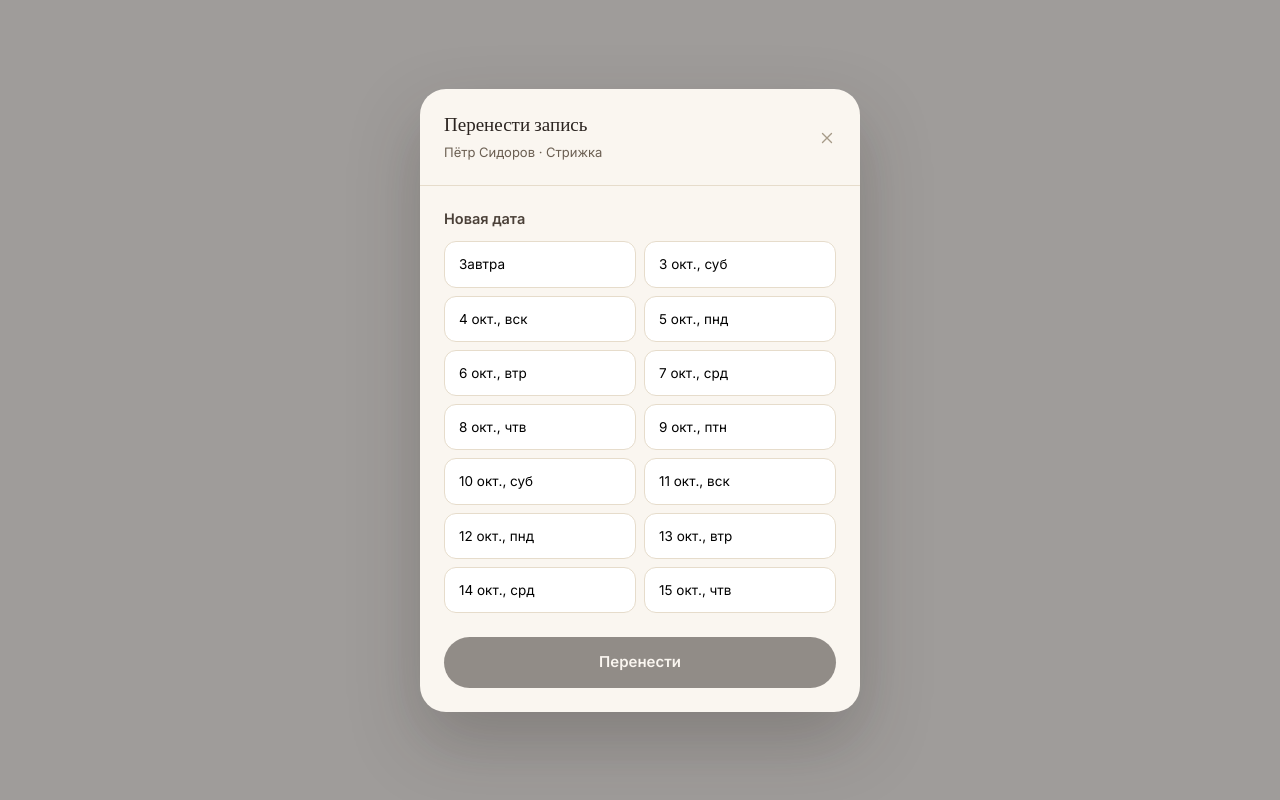
it: RescheduleModal — US-17-01 (ARCHITECTURE_CYCLE17.md §305.1): one boundary for days and slots › filters out a tomorrow slot inside a 24h window (minHours=24)
Click the button "Завтра": (540, 264) [444,241,636,288]
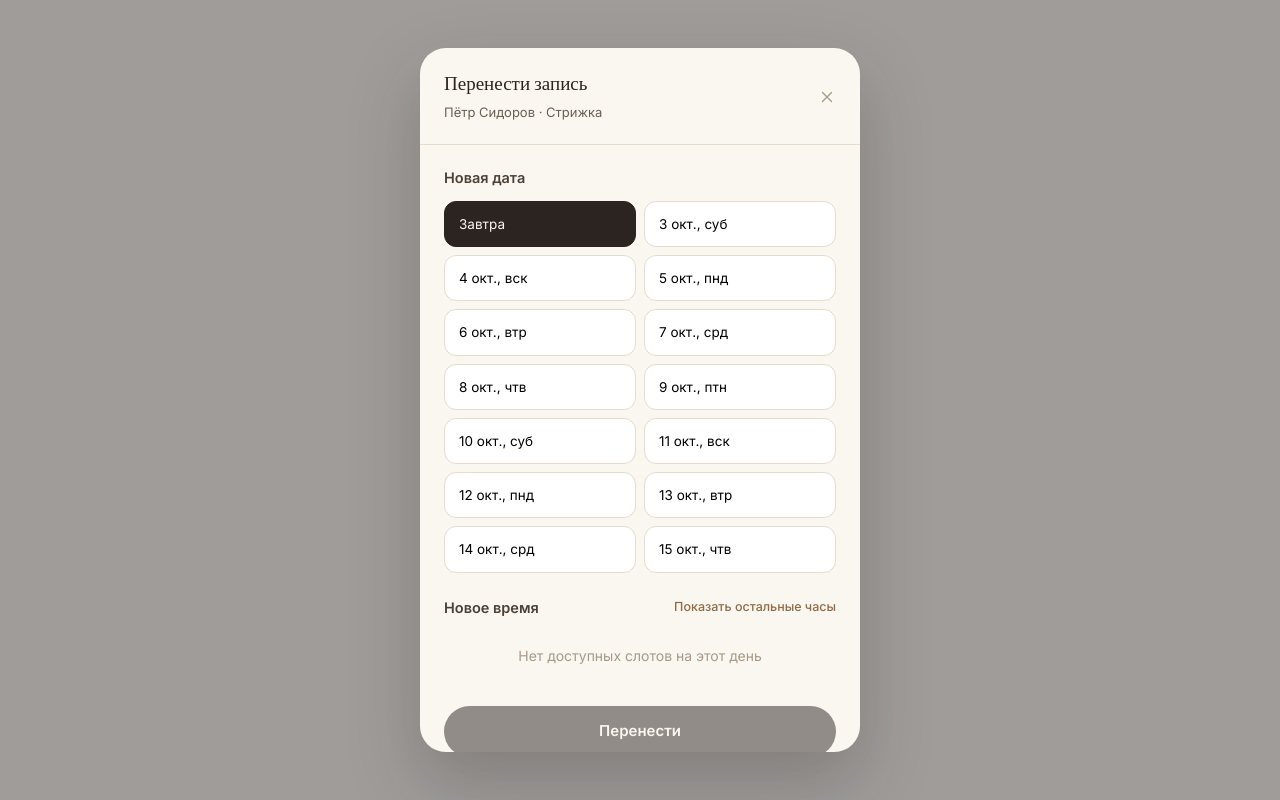
Now the text "Нет доступных слотов на этот день" is shown, box [518,647,762,664]
